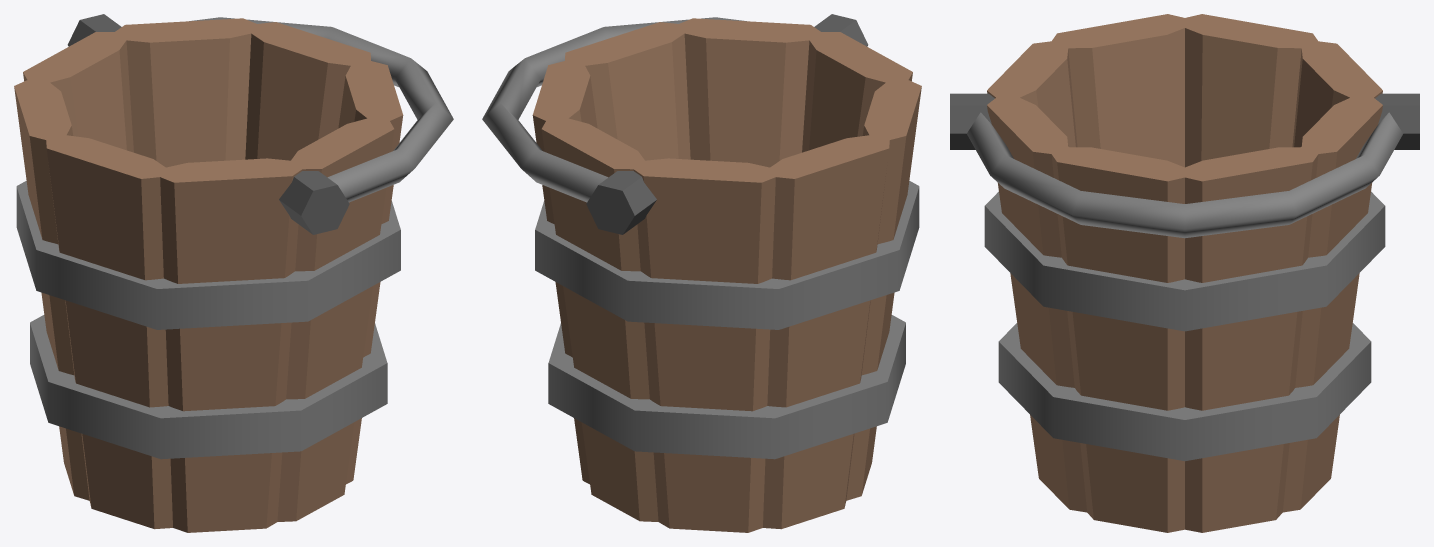
The model's file is Cubo.fbx.
3 renders of one model, left to right at view 1: azimuth 30°, elevation 25°; view 2: azimuth 150°, elevation 25°; view 3: azimuth 270°, elevation 25°, orthographic.
Parts seen in each view (by area): view 1: Cubo; view 2: Cubo; view 3: Cubo.
Part boxes in pixels (x1,y1,x2,y2): Cubo: (14, 14, 453, 532); Cubo: (482, 14, 921, 532); Cubo: (950, 14, 1419, 532).
Size of the model in its own units: 0.423 by 0.384 by 0.4378.
